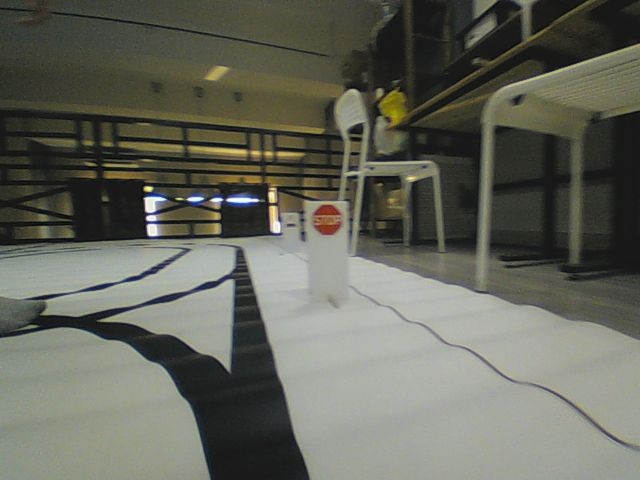Stop: (311, 203, 343, 235)
